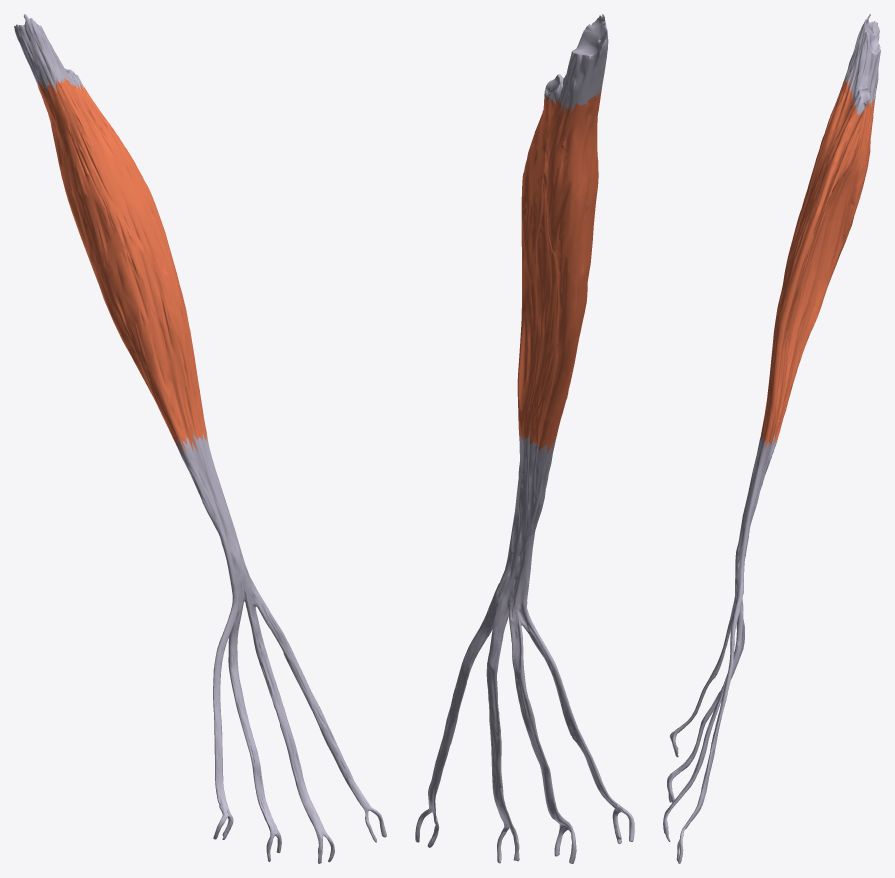
Rendered from Flexor_digitorum_superficialis.l_Generated_Mesh_From_X3D.498.glb.
The picture shows the model from 3 angles, left to right: view 1: azimuth 30°, elevation 25°; view 2: azimuth 150°, elevation 25°; view 3: azimuth 270°, elevation 25°; orthographic projection. The views are drawn at different scales.
Visible parts, largest first — view 1: Flexor_digitorum_superficialis.l_Generated_Mesh_From_X3D.498; view 2: Flexor_digitorum_superficialis.l_Generated_Mesh_From_X3D.498; view 3: Flexor_digitorum_superficialis.l_Generated_Mesh_From_X3D.498.
Boxes of the visible parts, x1=… form: Flexor_digitorum_superficialis.l_Generated_Mesh_From_X3D.498: x1=14, y1=14, x2=386, y2=863; Flexor_digitorum_superficialis.l_Generated_Mesh_From_X3D.498: x1=415, y1=14, x2=634, y2=863; Flexor_digitorum_superficialis.l_Generated_Mesh_From_X3D.498: x1=663, y1=14, x2=880, y2=863.
Bounding box in the file's own units: 0.132 × 0.3897 × 0.1037.
